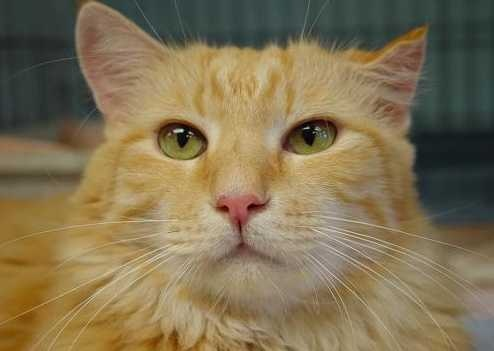Cat: (64, 1, 429, 350)
